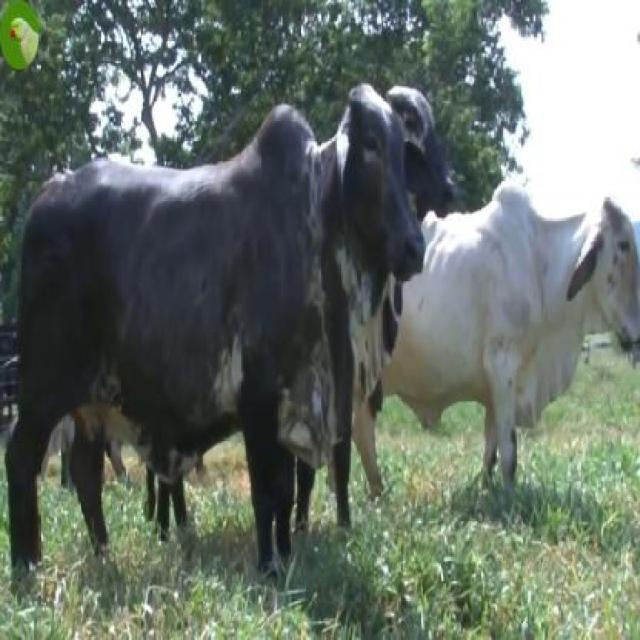Cow: (5, 86, 423, 592)
